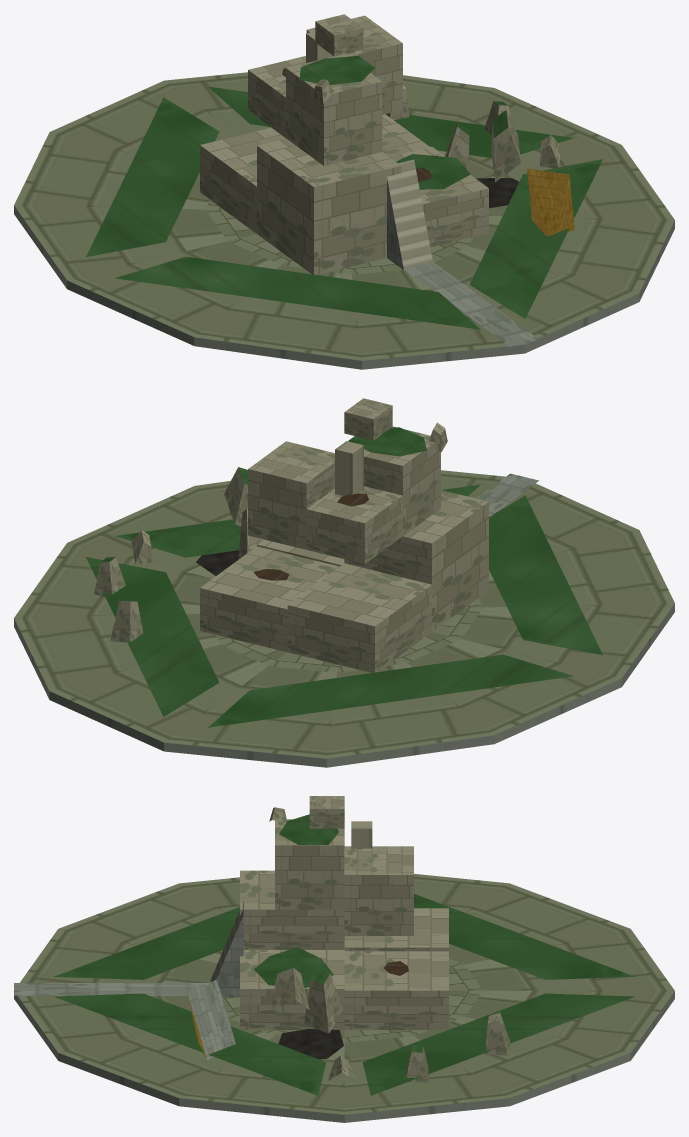
Rendered from pyramid_small_destroyed_lod2.glb.
3 views of the same model, one above another, from view 1: azimuth 30°, elevation 25°; view 2: azimuth 150°, elevation 25°; view 3: azimuth 270°, elevation 25° (orthographic). The views are drawn at different scales.
Visible parts, largest first — view 1: pyramid_small_destroyed_lod2; view 2: pyramid_small_destroyed_lod2; view 3: pyramid_small_destroyed_lod2.
Part boxes in pixels (x1,y1,x2,y2): pyramid_small_destroyed_lod2: (14,14,674,369); pyramid_small_destroyed_lod2: (14,398,674,767); pyramid_small_destroyed_lod2: (14,796,674,1122).
Bounding box in the file's own units: 1.7 × 0.6187 × 1.91.
1 material, 1 textured.
